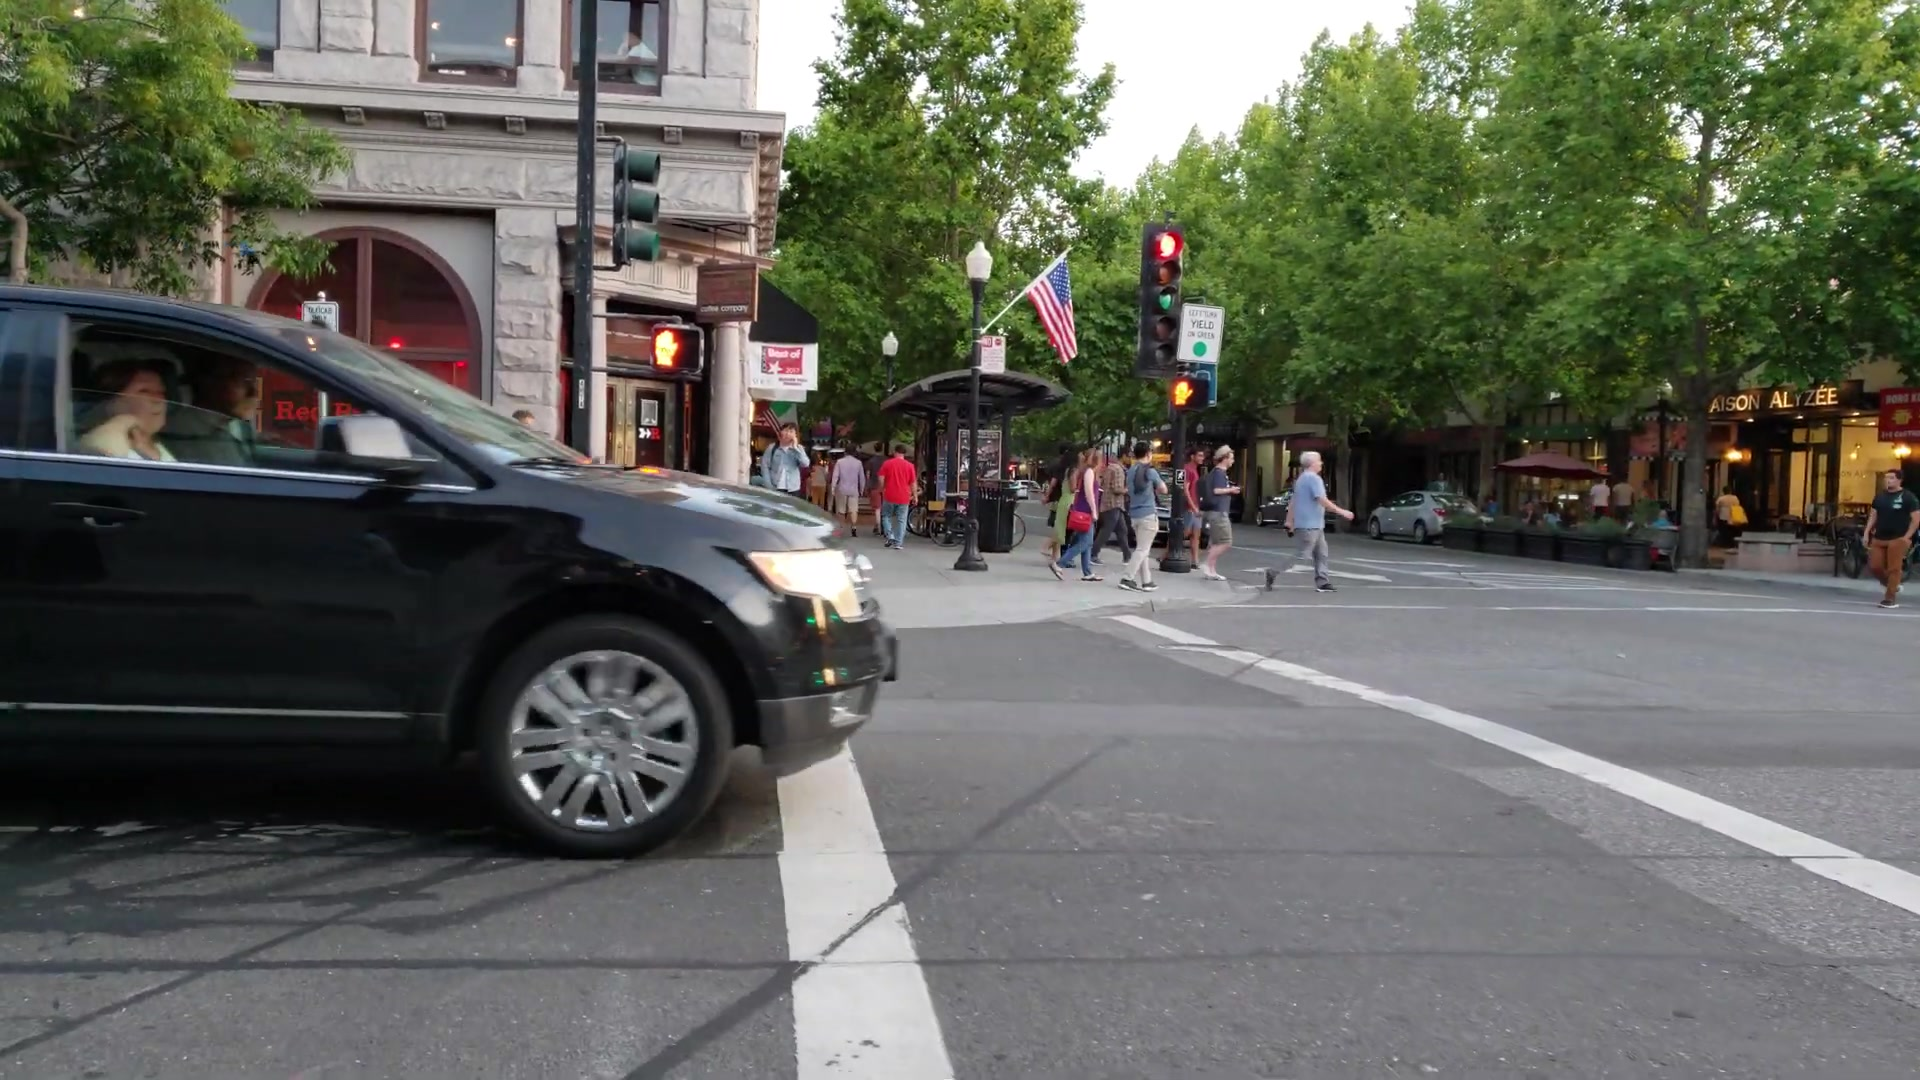vehicle: (1, 280, 901, 865)
